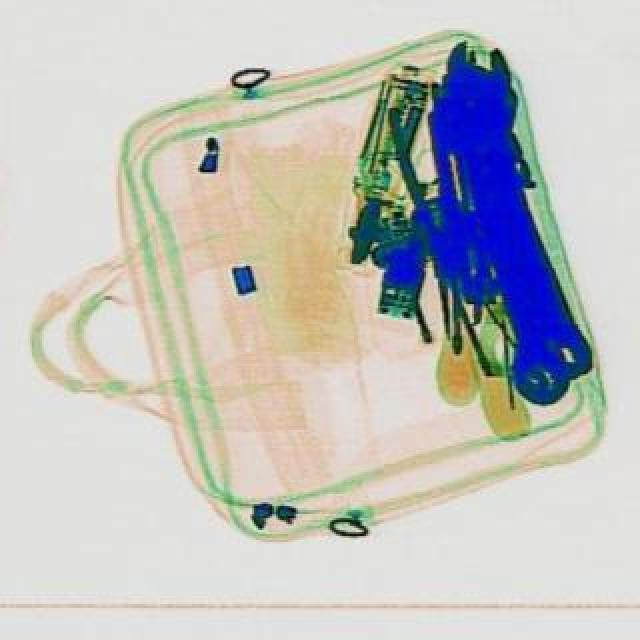scissors: (432, 34, 576, 414)
